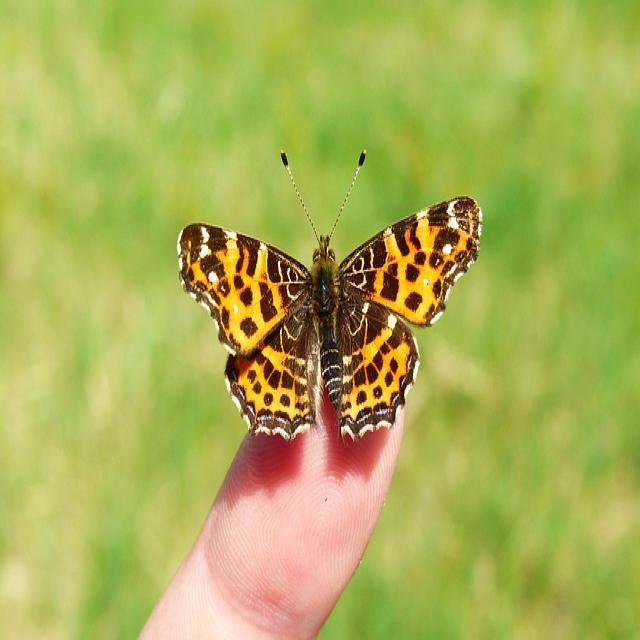butterfly: (178, 154, 483, 444)
